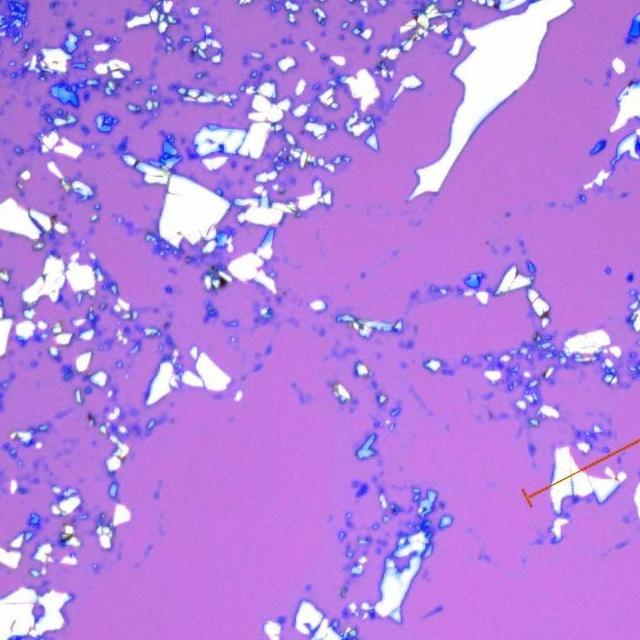monolayer-eWW4: (422, 608, 436, 619)
